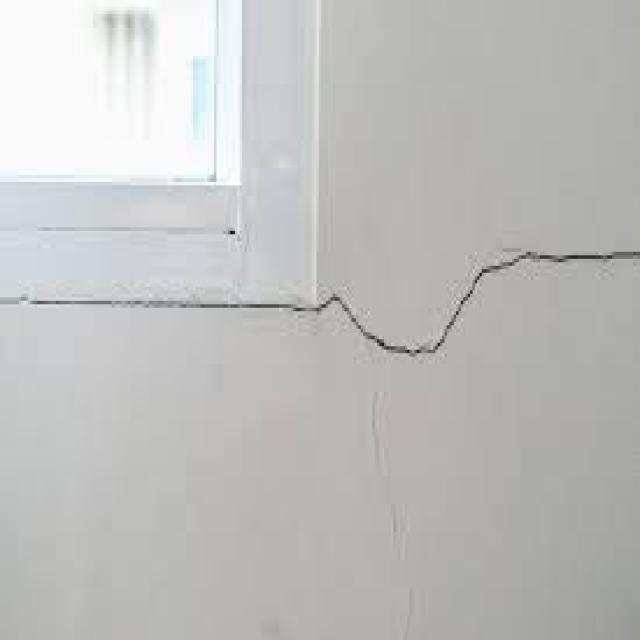Crack: (314, 242, 638, 354)
